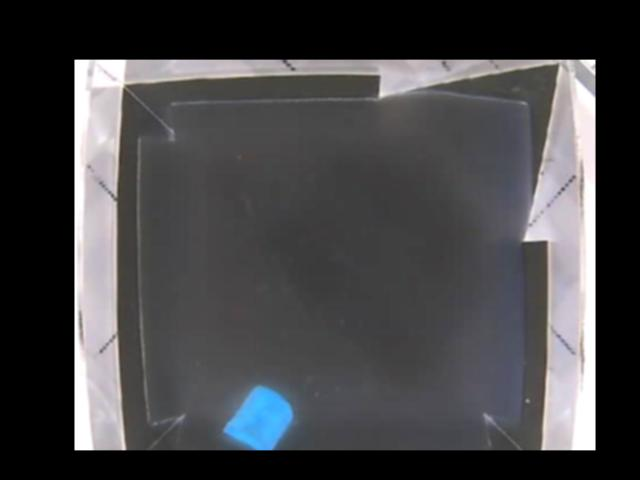Carrot: (221, 385, 294, 450)
